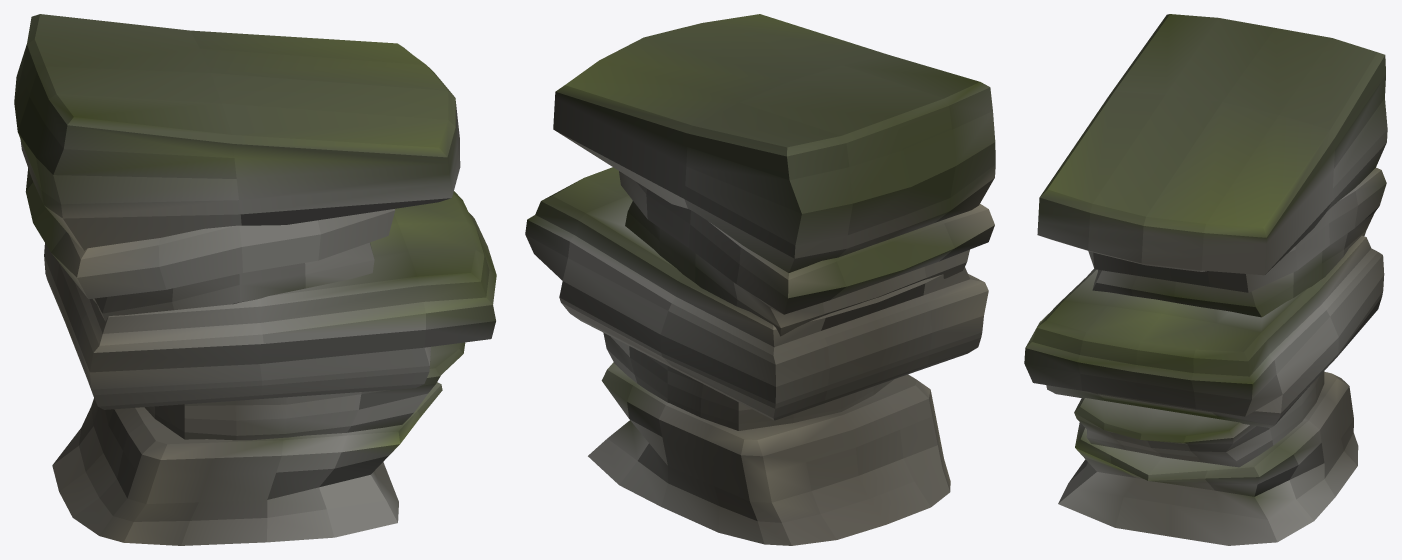
The model's file is Rocks02.fbx.
3 views of the same model, side by side, from view 1: azimuth 30°, elevation 25°; view 2: azimuth 150°, elevation 25°; view 3: azimuth 270°, elevation 25° (orthographic). The views are drawn at different scales.
Parts seen in each view (by area): view 1: Rocks02_LOD0; view 2: Rocks02_LOD0; view 3: Rocks02_LOD0.
Part boxes in pixels (x1,y1,x2,y2): Rocks02_LOD0: (14, 14, 496, 545); Rocks02_LOD0: (525, 14, 995, 545); Rocks02_LOD0: (1024, 14, 1387, 545).
Size of what is drawn, in the model's own units: 373 by 351 by 299.
